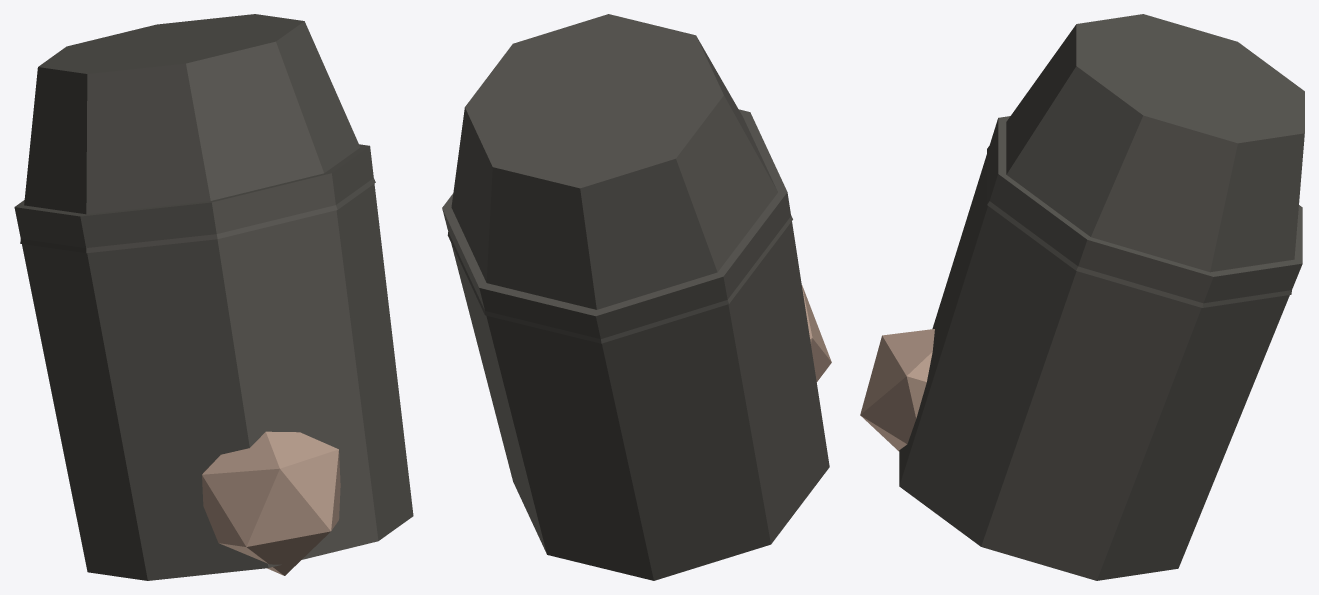
The model's file is inf_v2_hocker_upper_leg.fbx.
The picture shows the model from 3 angles, left to right: view 1: azimuth 30°, elevation 25°; view 2: azimuth 150°, elevation 25°; view 3: azimuth 270°, elevation 25°; orthographic projection. The views are drawn at different scales.
Visible parts, largest first — view 1: inf_v2_hocker_upper_leg; view 2: inf_v2_hocker_upper_leg; view 3: inf_v2_hocker_upper_leg.
Boxes of the visible parts, x1,y1,x2,y2 form: inf_v2_hocker_upper_leg: [14, 14, 413, 580]; inf_v2_hocker_upper_leg: [442, 14, 831, 580]; inf_v2_hocker_upper_leg: [860, 14, 1304, 580].
Bounding box in the file's own units: 88.69 × 152 × 123.
